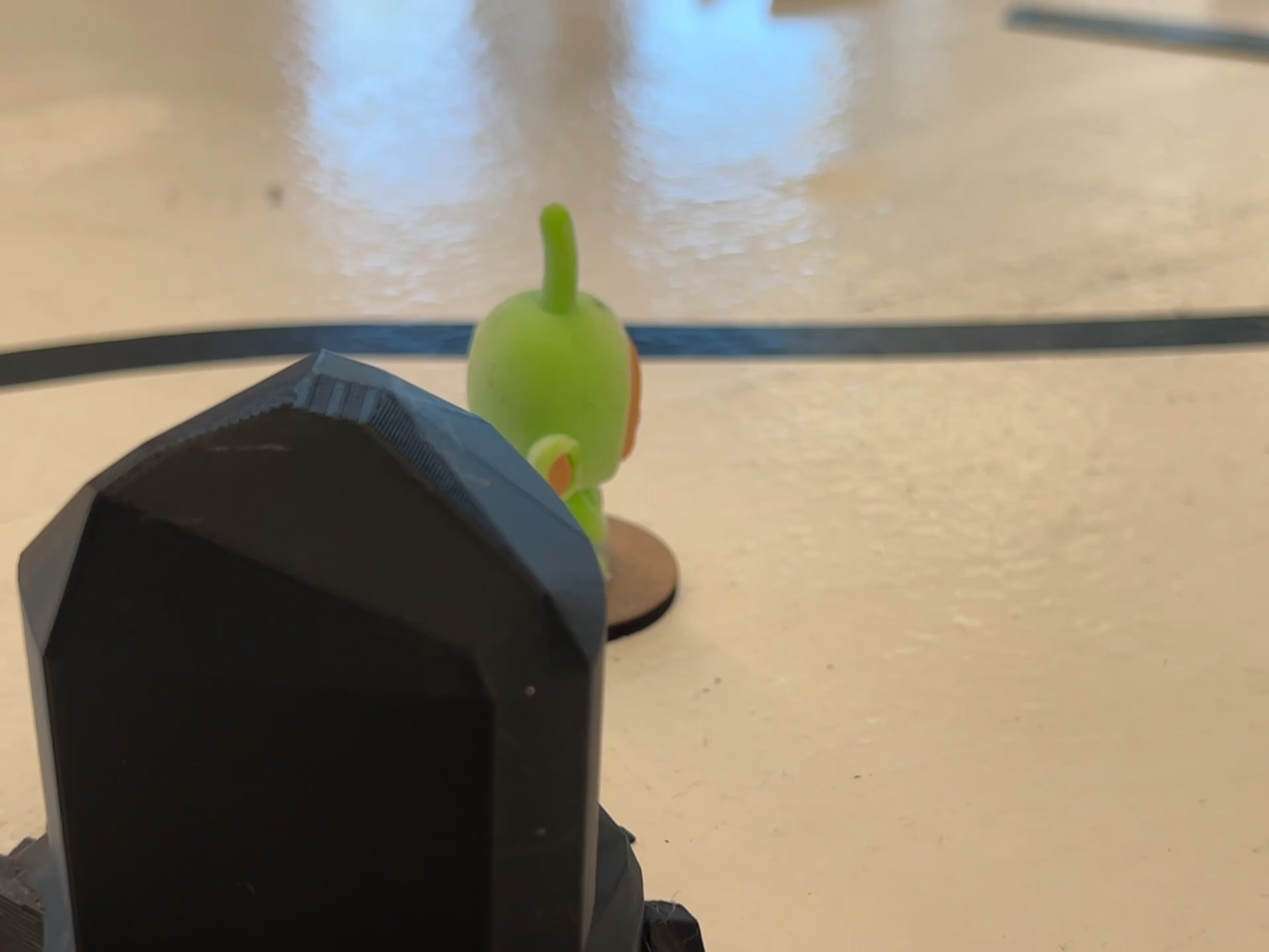teletubby: (467, 204, 640, 575)
